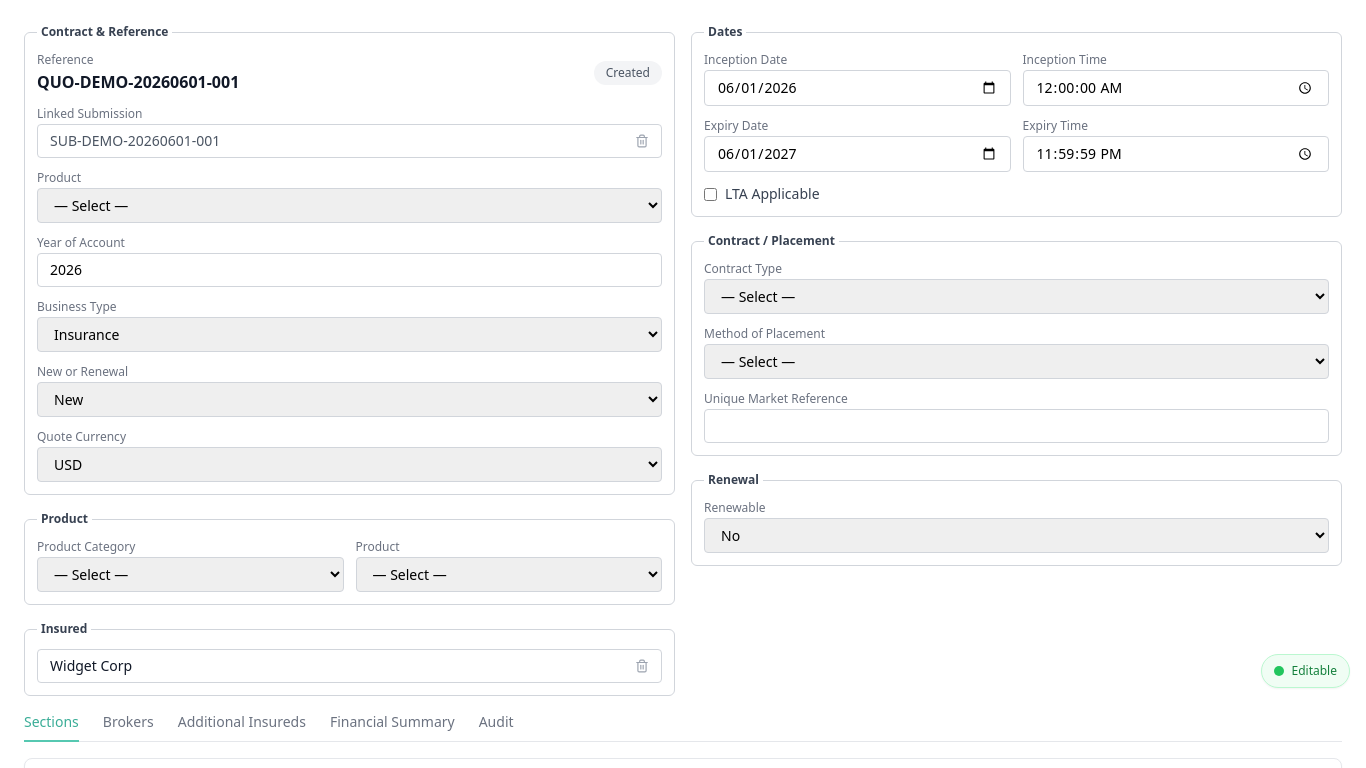
Test: QuoteViewPage › T-quotes-view-R10 — LTA toggle reveals LTA date fields
Expected: the field labelled "lta start date" is not shown
Toggle LTA on
Click the checkbox labelled "LTA Applicable": click(710, 194) [704,188,717,200]
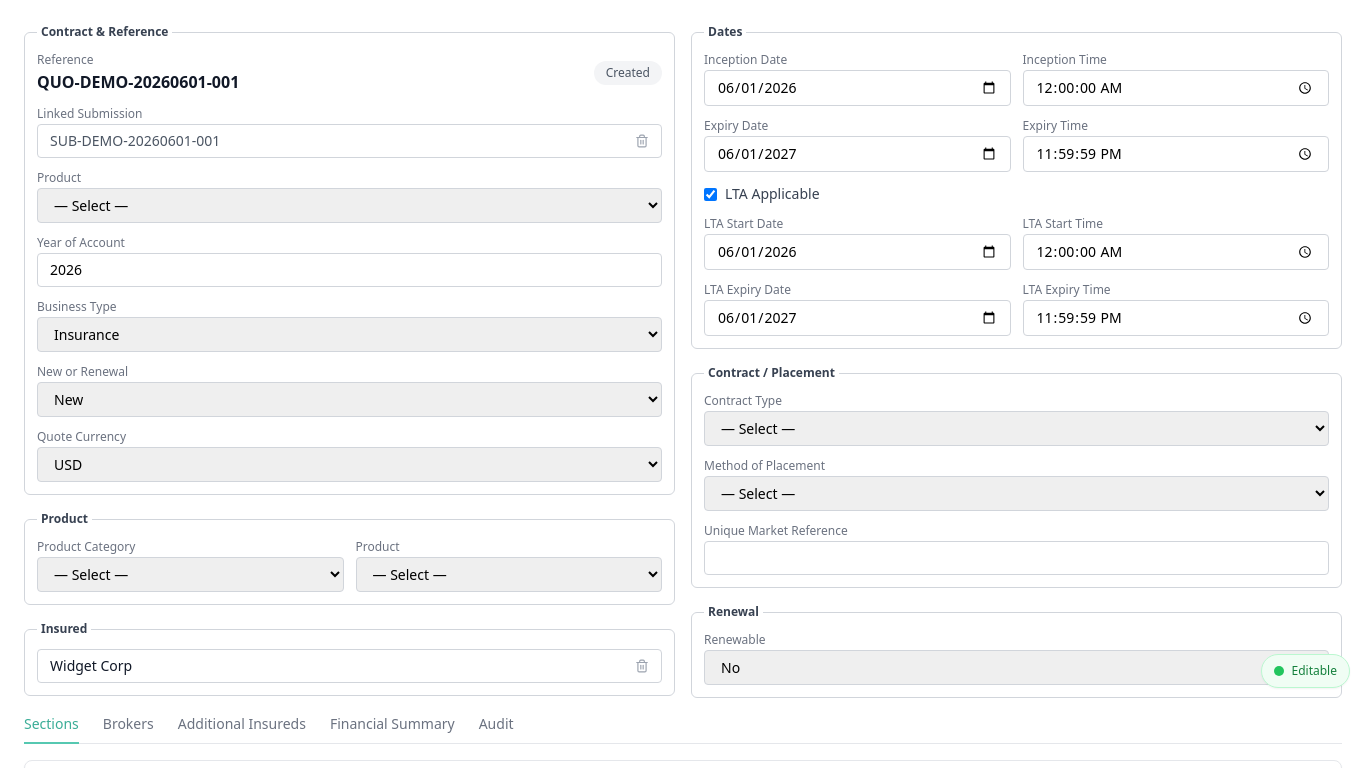
Expected: the date field named "lta start date" is shown, [704,234,1010,270]
